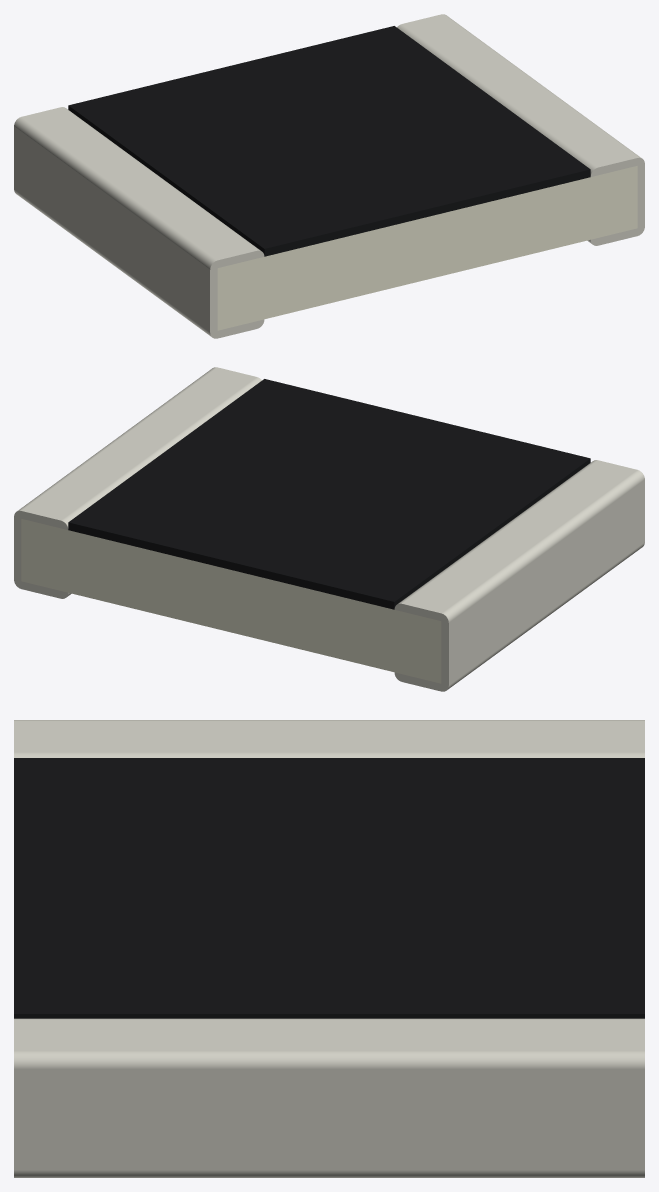
The model's file is R_1210_3225Metric.glb.
The picture shows the model from 3 angles, top to bottom: view 1: azimuth 30°, elevation 25°; view 2: azimuth 150°, elevation 25°; view 3: azimuth 270°, elevation 25°; orthographic projection. The views are drawn at different scales.
Parts seen in each view (by area): view 1: =>[0:1:1:3]; view 2: =>[0:1:1:3]; view 3: =>[0:1:1:3].
Part boxes in pixels (x1,y1,x2,y2): =>[0:1:1:3]: [14, 14, 644, 338]; =>[0:1:1:3]: [14, 367, 644, 691]; =>[0:1:1:3]: [14, 720, 644, 1177].
Bounding box in the file's own units: 0.0032 × 0.00055 × 0.0025.
